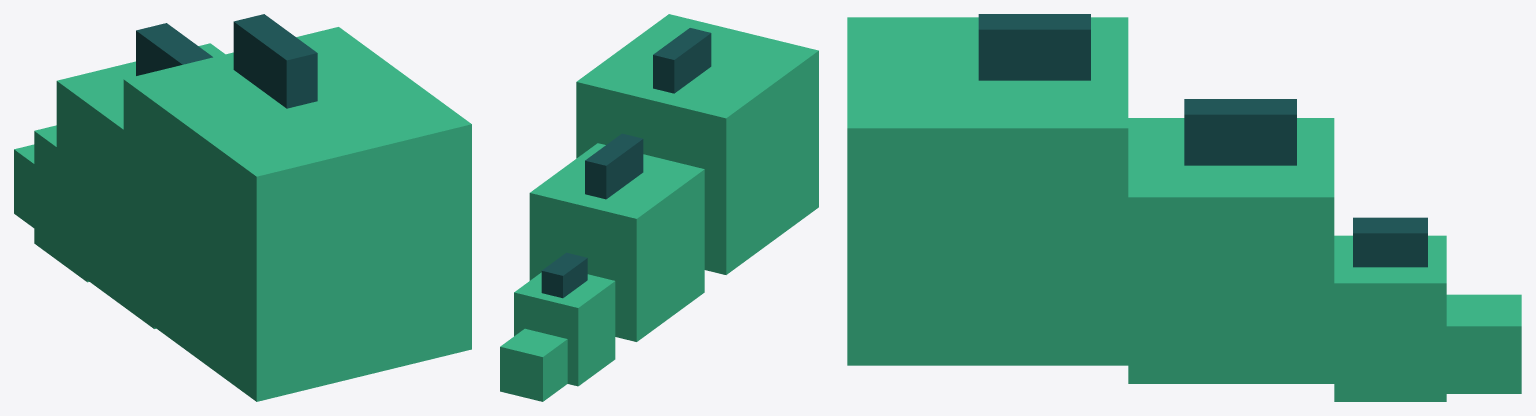
Rendered from KaijuTail.obj.
3 renders of one model, left to right at view 1: azimuth 30°, elevation 25°; view 2: azimuth 150°, elevation 25°; view 3: azimuth 270°, elevation 25°, orthographic. The views are drawn at different scales.
Size of the model in its own units: 14 by 21 by 36.
Materials: 1 (1 with a texture image).
